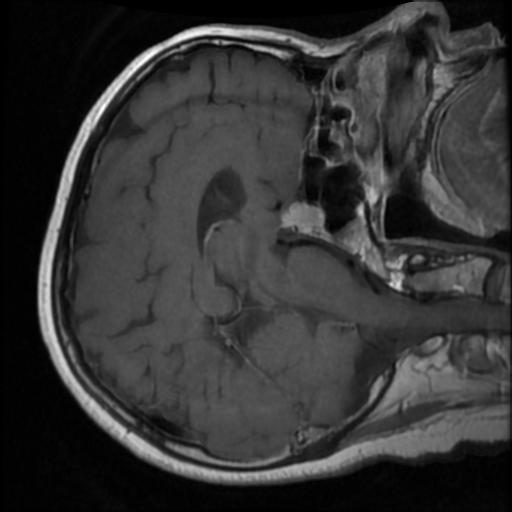pituitary tumour: (283, 201, 325, 235)
